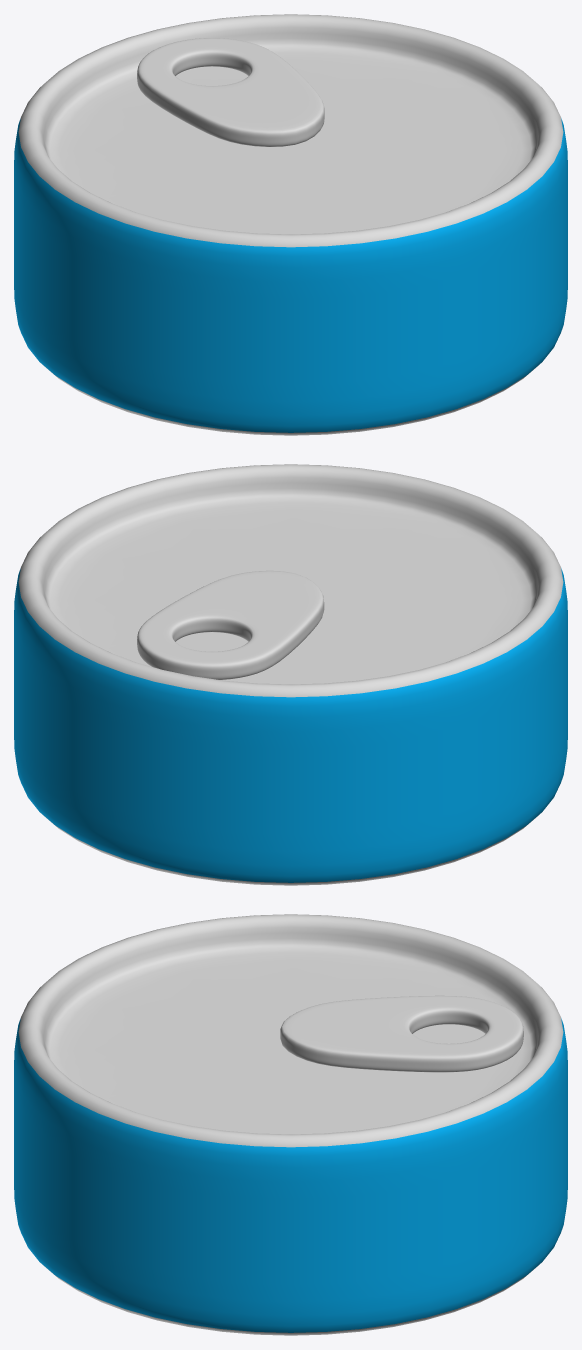
The model's file is bluecan.fbx.
The picture shows the model from 3 angles, top to bottom: view 1: azimuth 30°, elevation 25°; view 2: azimuth 150°, elevation 25°; view 3: azimuth 270°, elevation 25°; orthographic projection.
Parts seen in each view (by area): view 1: blue_can; view 2: blue_can; view 3: blue_can.
Boxes of the visible parts, x1,y1,x2,y2 form: blue_can: [14, 14, 567, 435]; blue_can: [14, 464, 567, 885]; blue_can: [14, 914, 567, 1335].
Bounding box in the file's own units: 95.49 × 38.06 × 95.49.
